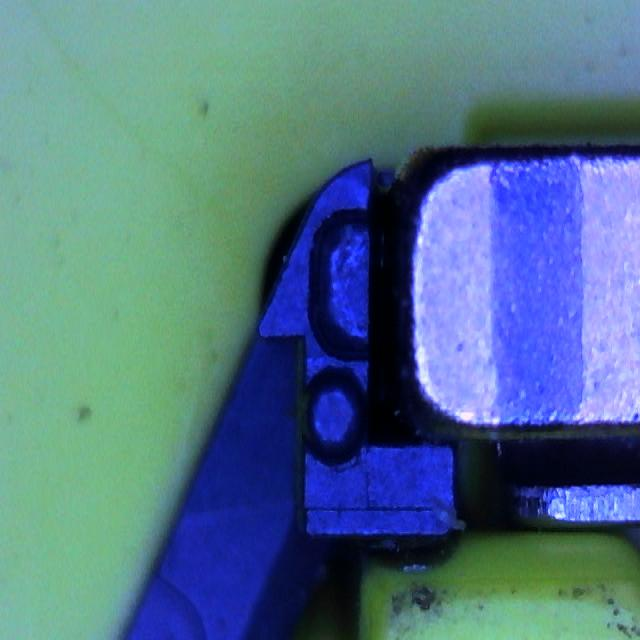lacking: (309, 206, 377, 364)
